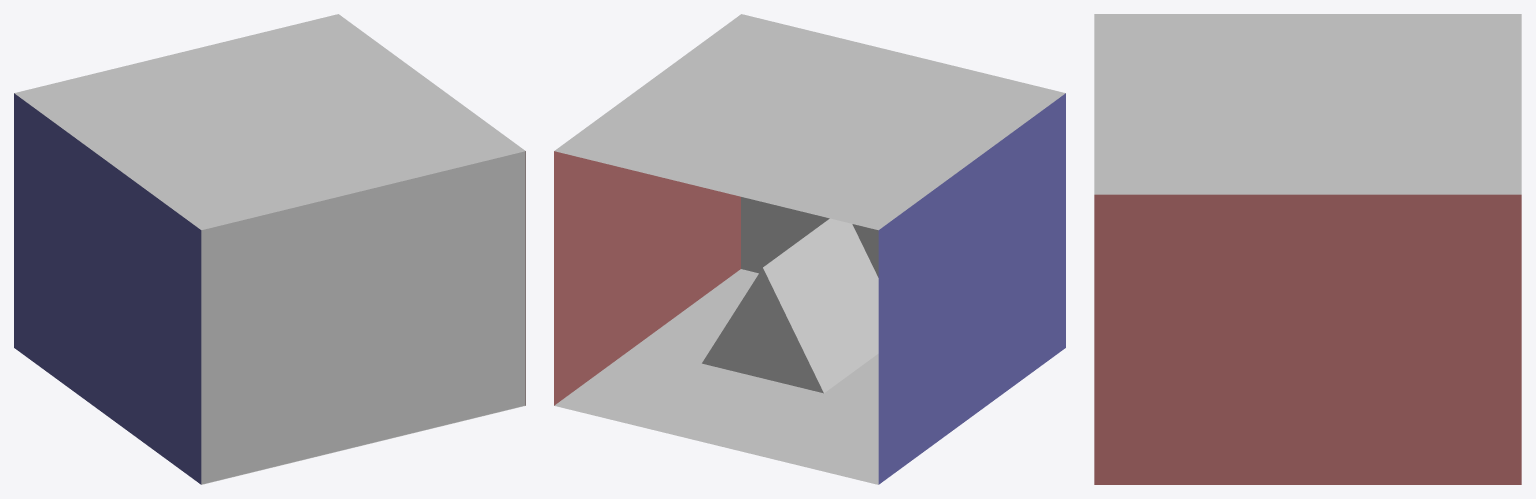
File: CBprism.dae
The picture shows the model from 3 angles, left to right: view 1: azimuth 30°, elevation 25°; view 2: azimuth 150°, elevation 25°; view 3: azimuth 270°, elevation 25°; orthographic projection. The views are drawn at different scales.
Visible parts, largest first — view 1: backWall, ceiling, rightWall; view 2: ceiling, rightWall, leftWall, floor, Cylinder, backWall; view 3: leftWall, ceiling.
Boxes of the visible parts, <box> form: backWall: <box>201,151,525,484</box>; ceiling: <box>14,14,525,230</box>; rightWall: <box>14,93,201,484</box>; ceiling: <box>554,14,1065,230</box>; rightWall: <box>878,93,1065,484</box>; leftWall: <box>554,151,740,405</box>; floor: <box>554,269,878,484</box>; Cylinder: <box>702,218,878,393</box>; backWall: <box>741,197,878,277</box>; leftWall: <box>1094,194,1521,484</box>; ceiling: <box>1094,14,1521,194</box>.
Bounding box in the file's own units: 2 × 2 × 1.5.
